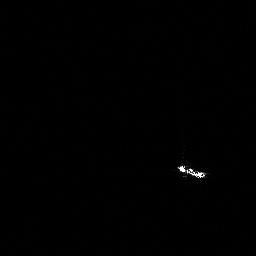ship: (173, 159, 210, 183)
